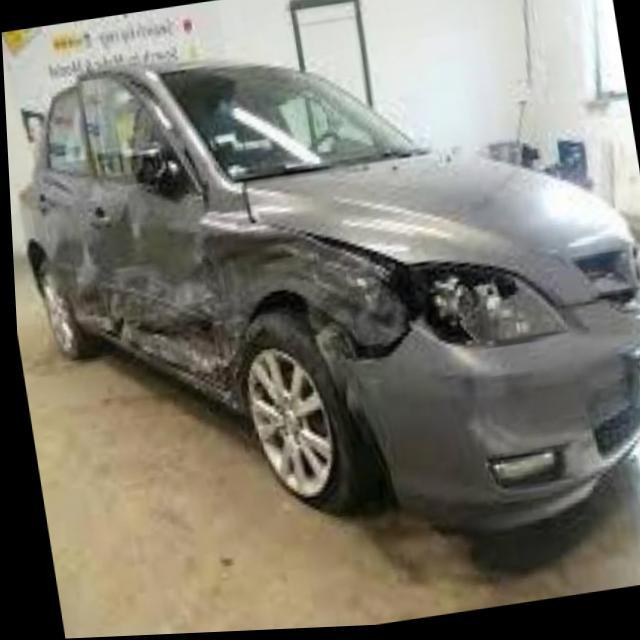dent: (16, 201, 491, 410)
